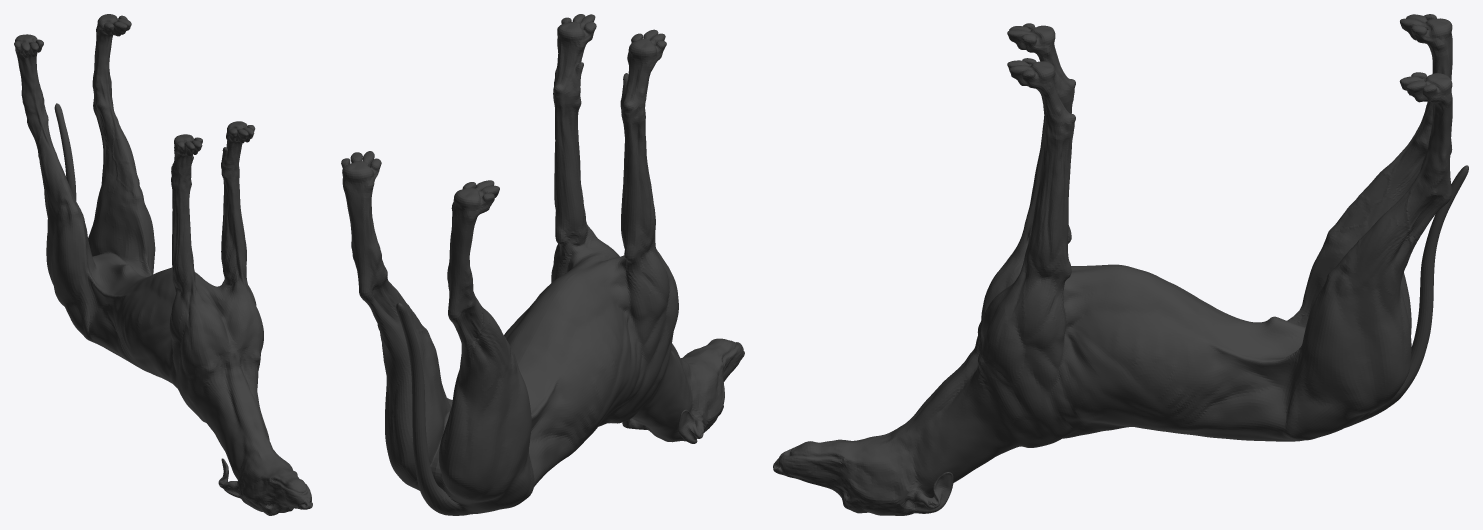
Rendered from ZBrush_defualt_group.glb.
3 views of the same model, side by side, from view 1: azimuth 30°, elevation 25°; view 2: azimuth 150°, elevation 25°; view 3: azimuth 270°, elevation 25° (orthographic). The views are drawn at different scales.
Parts seen in each view (by area): view 1: ZBrush_defualt_group; view 2: ZBrush_defualt_group; view 3: ZBrush_defualt_group.
Boxes of the visible parts, bbox=[...] form: ZBrush_defualt_group: bbox=[14, 14, 312, 515]; ZBrush_defualt_group: bbox=[341, 14, 744, 515]; ZBrush_defualt_group: bbox=[773, 14, 1468, 515].
Bounding box in the file's own units: 0.7249 × 2.09 × 2.84.
Materials: 1 (1 with a texture image).
